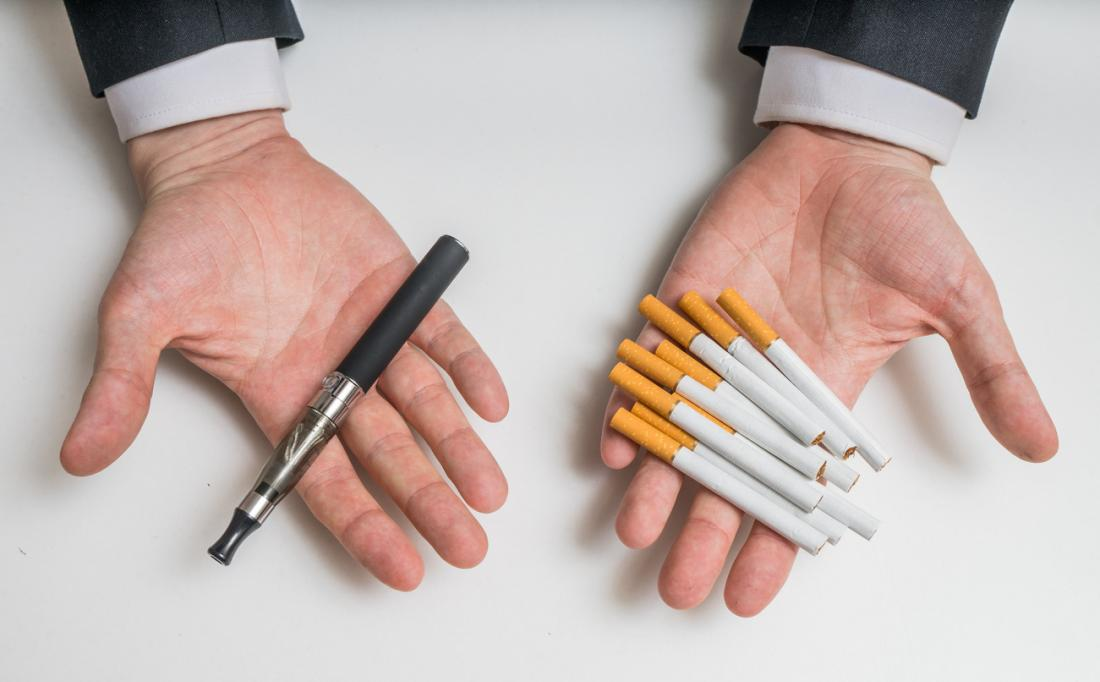cigarette: (594, 388, 880, 568)
